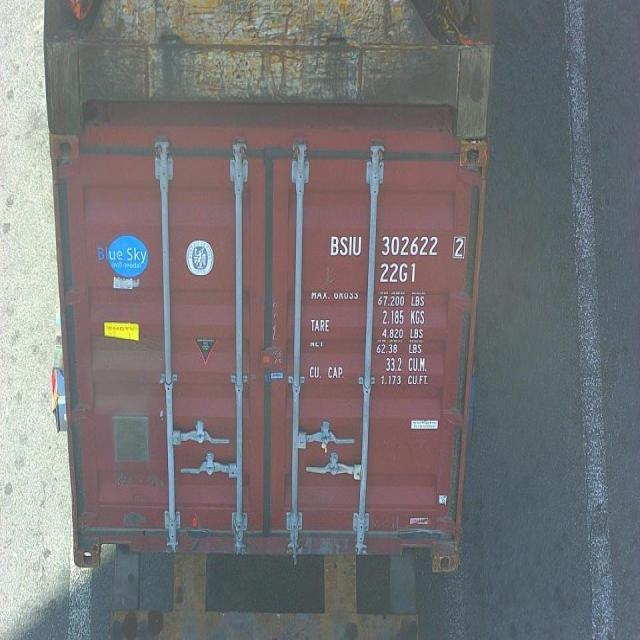ISO: (382, 262, 419, 284)
container_number: (329, 232, 466, 258)
